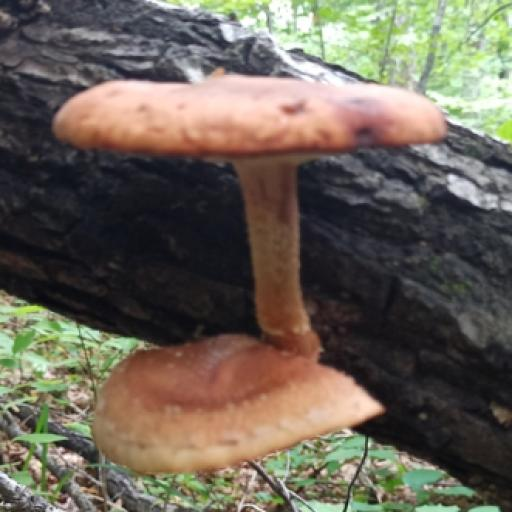Shiitake Mushroom: (52, 79, 439, 472)
